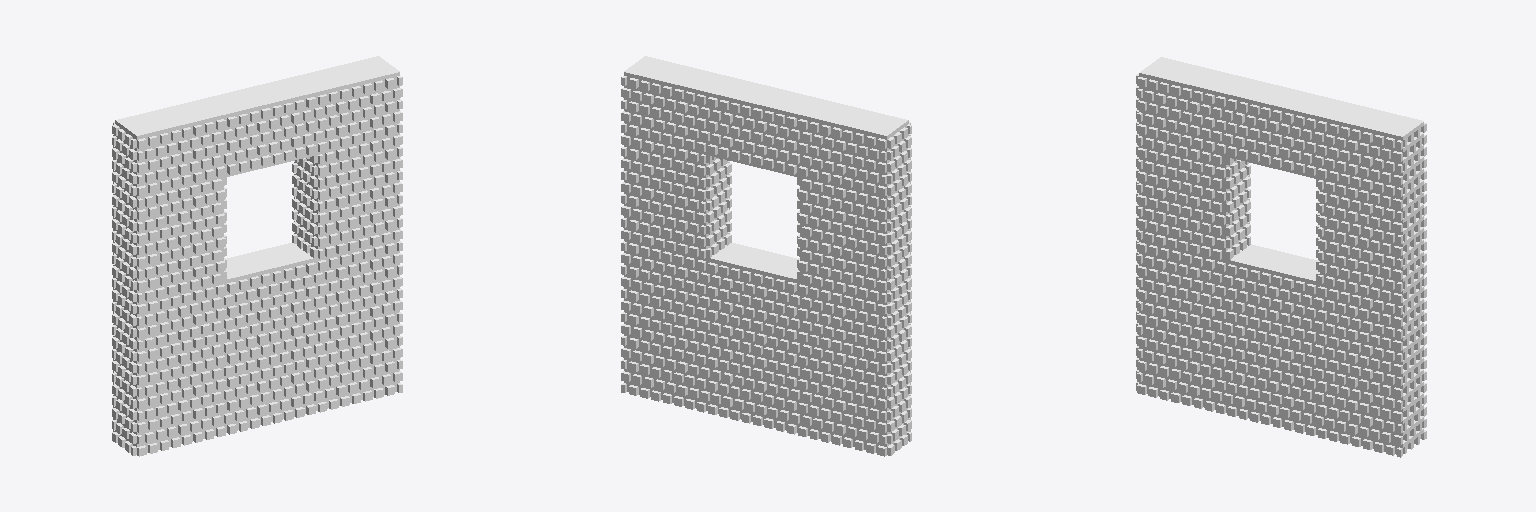
The model's file is one_side_window_wall_h81_sq_1.0.obj.
3 renders of one model, left to right at view 1: azimuth 30°, elevation 25°; view 2: azimuth 150°, elevation 25°; view 3: azimuth 330°, elevation 25°, orthographic.
Parts seen in each view (by area): view 1: object 1; view 2: object 1; view 3: object 1.
Boxes of the visible parts, box(x1,y1,x2,y2) form: object 1: box(112, 56, 402, 456); object 1: box(621, 56, 911, 456); object 1: box(1136, 57, 1426, 457).
Size of the model in its own units: 7.1 by 8.1 by 1.2.